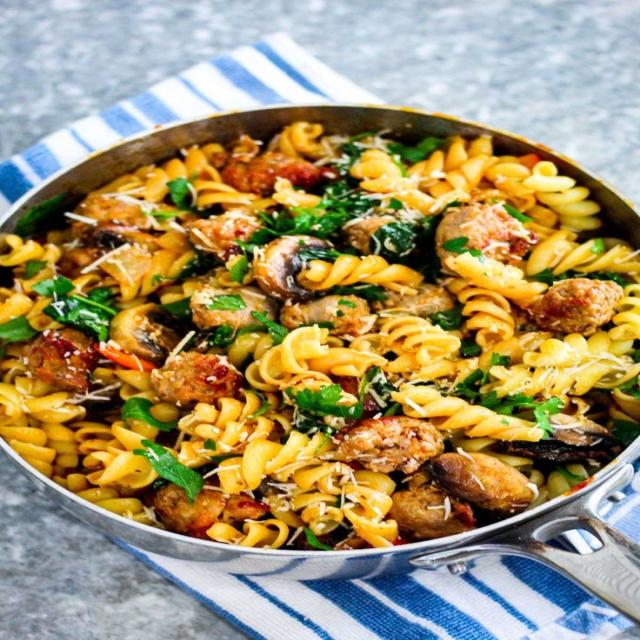pasta: (31, 114, 588, 548)
